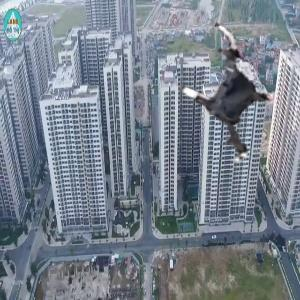drone: (162, 27, 300, 165)
